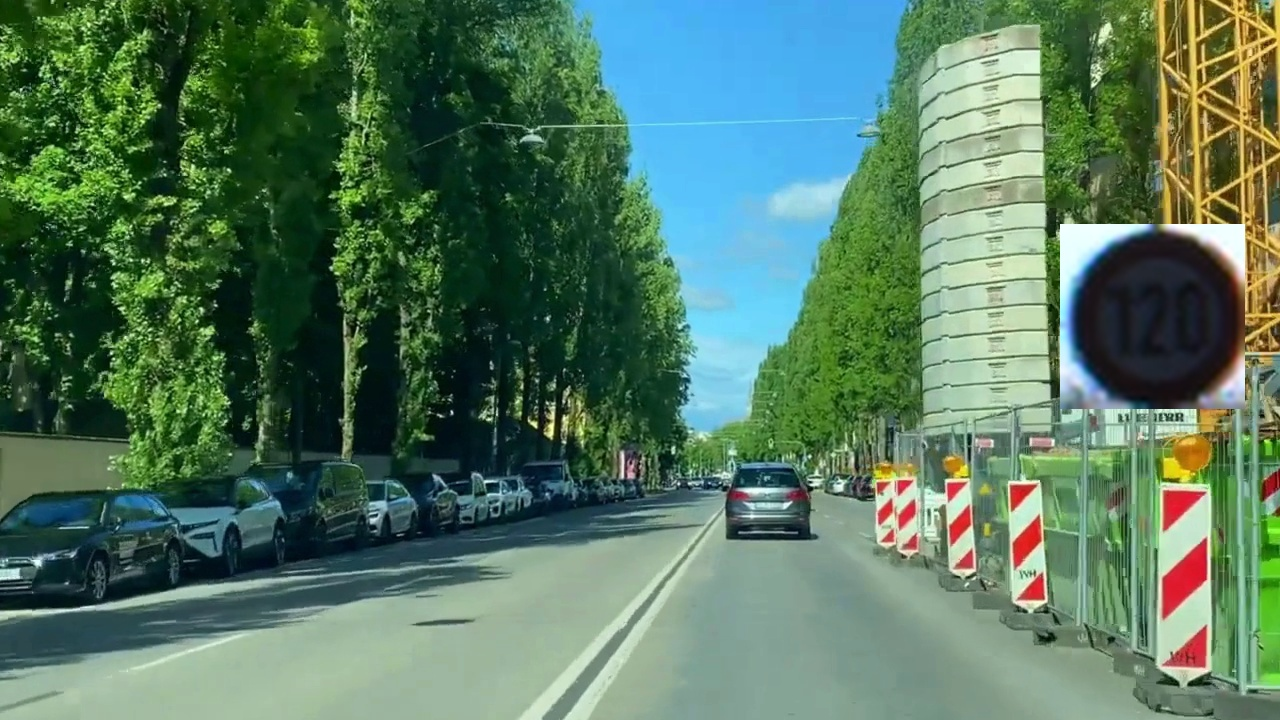Speed 120: (1060, 224, 1245, 409)
